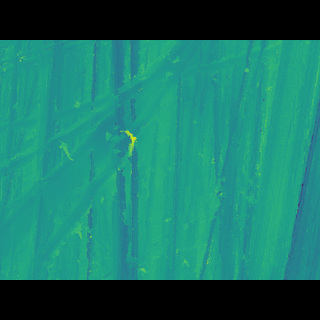Loch: (0, 70, 219, 250)
